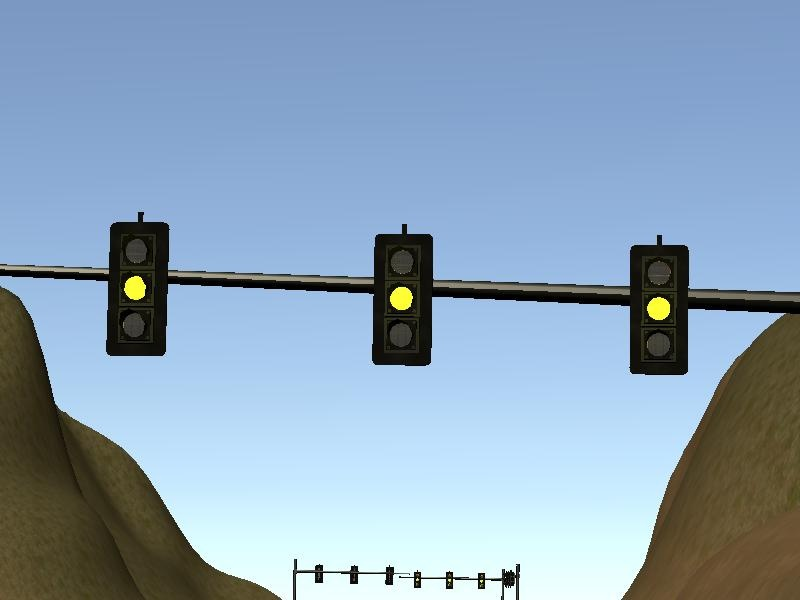YELLOW: (105, 212, 168, 355), (370, 224, 433, 367), (627, 236, 690, 379)
